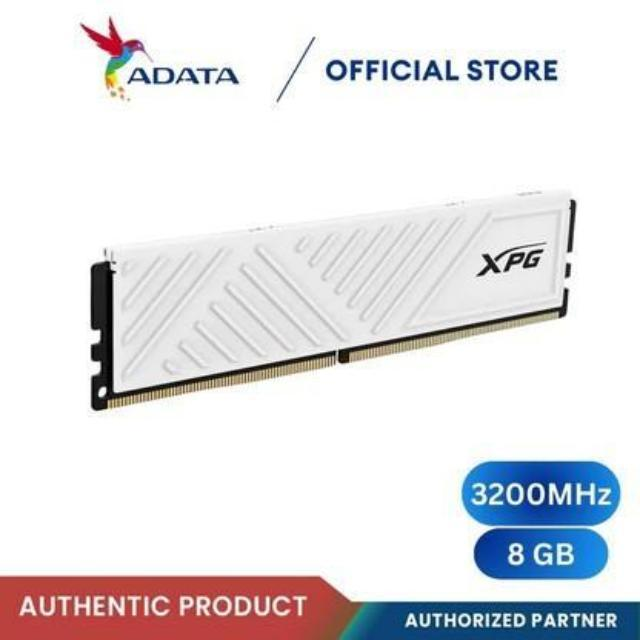RAM: (85, 188, 582, 417)
